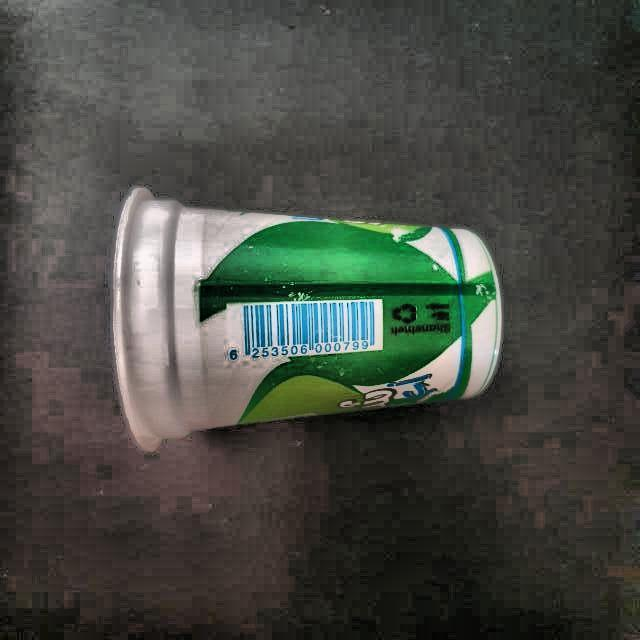plastic: (114, 189, 501, 449)
